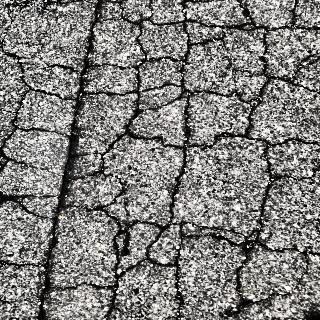alligator-crack: (5, 0, 314, 320)
